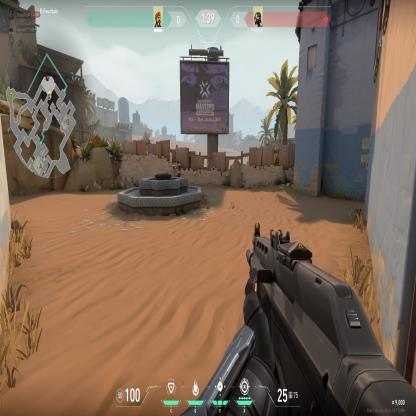enemy: (174, 160, 182, 176)
